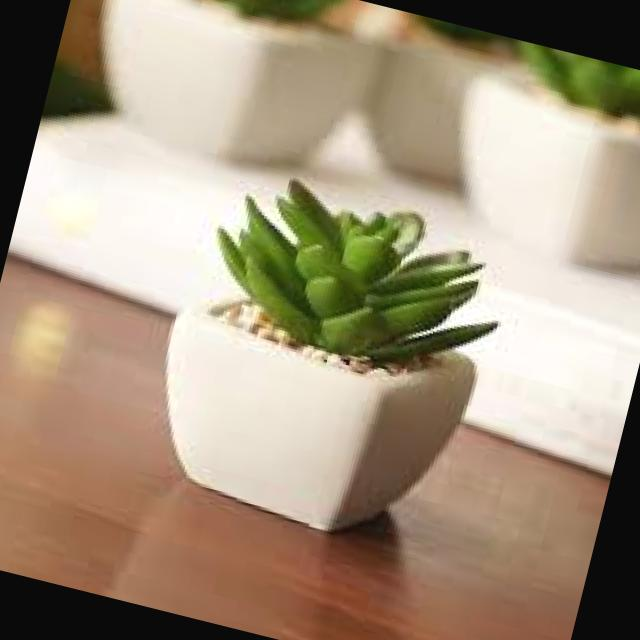cactus: (162, 120, 524, 386)
